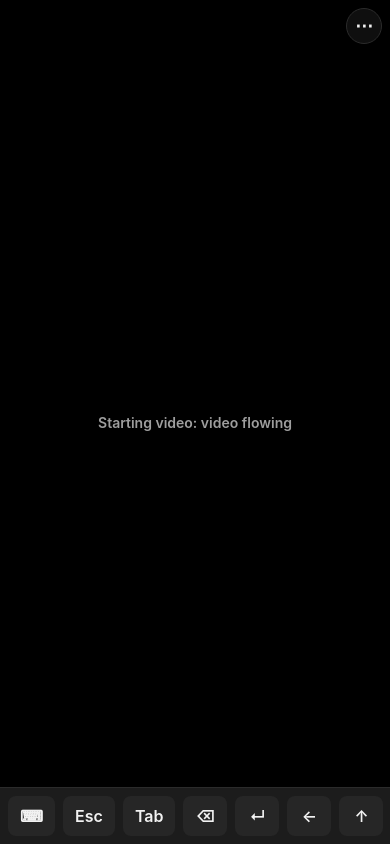
Test: RemoteScreen › the stats overlay › switches to megabits once the rate passes 1 Mbps
Click the text "⋯": [364, 26] box left=355, top=16, right=373, bottom=36
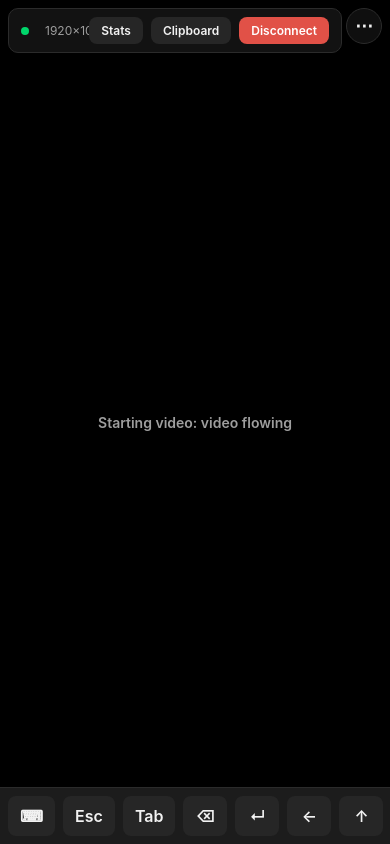
Click the text "Stats": [116, 30] box left=101, top=23, right=131, bottom=38
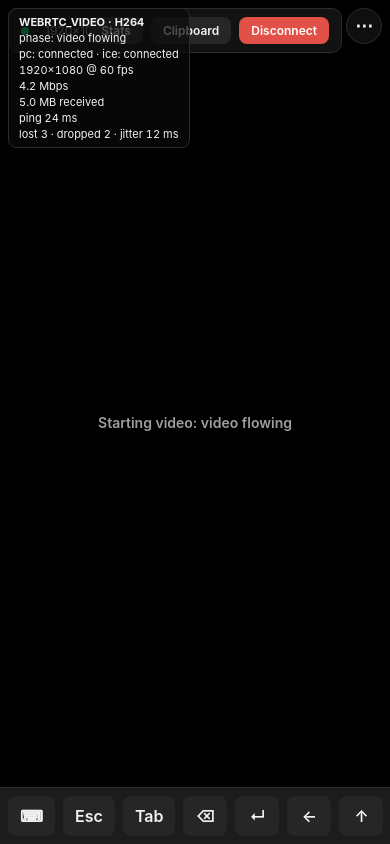
Expected: the text "4.2 Mbps" is shown, left=19, top=79, right=68, bottom=93
